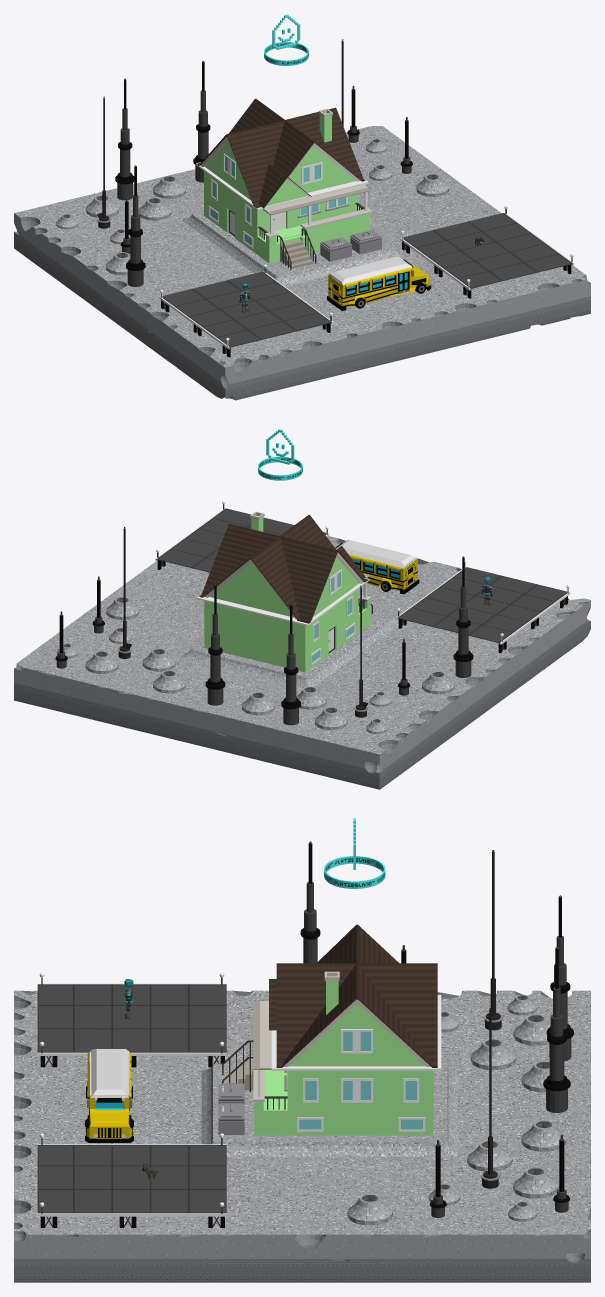
The picture shows the model from 3 angles, top to bottom: view 1: azimuth 30°, elevation 25°; view 2: azimuth 150°, elevation 25°; view 3: azimuth 270°, elevation 25°; orthographic projection. The views are drawn at different scales.
Parts seen in each view (by area): view 1: Cube.027, Cube.274, Cube.026, Cube.025, Cube.028, VEHICLES_SCHOOL_BUS, Cylinder.021, Cylinder.020, Cylinder.017, TYPE_PREMIUM, Cube.029, Cube.030 (+3 smaller); view 2: Cube.027, Cube.274, Cube.025, Cube.028, Cube.026, VEHICLES_SCHOOL_BUS, Cylinder.017, Cylinder.021, Cylinder.020, TYPE_PREMIUM, Cylinder.030, Cylinder.029 (+7 smaller); view 3: Cube.027, Cube.274, Cube.026, Cube.025, Cube.028, VEHICLES_SCHOOL_BUS, Cylinder.017, Cylinder.020, Cylinder.021, TYPE_PREMIUM, Cylinder.033, Cylinder.031 (+10 smaller).
Boxes of the visible parts, <box> form: Cube.027: <box>14,126,590,400</box>; Cube.274: <box>196,98,372,269</box>; Cube.026: <box>400,205,574,298</box>; Cube.025: <box>159,264,333,357</box>; Cube.028: <box>182,211,403,286</box>; VEHICLES_SCHOOL_BUS: <box>327,256,431,310</box>; Cylinder.021: <box>126,165,145,286</box>; Cylinder.020: <box>115,78,134,200</box>; Cylinder.017: <box>193,60,210,182</box>; TYPE_PREMIUM: <box>264,14,308,65</box>; Cube.029: <box>320,237,351,261</box>; Cube.030: <box>350,230,381,254</box>; Cube.027: <box>14,536,590,789</box>; Cube.274: <box>197,511,372,672</box>; Cube.025: <box>396,560,570,653</box>; Cube.028: <box>181,610,398,688</box>; Cube.026: <box>155,501,329,572</box>; VEHICLES_SCHOOL_BUS: <box>335,540,419,594</box>; Cylinder.017: <box>205,583,225,705</box>; Cylinder.021: <box>453,556,473,677</box>; Cylinder.020: <box>281,603,300,725</box>; TYPE_PREMIUM: <box>258,429,302,480</box>; Cylinder.030: <box>142,648,175,671</box>; Cylinder.029: <box>153,670,185,693</box>; Cube.027: <box>14,990,590,1282</box>; Cube.274: <box>222,924,441,1135</box>; Cube.026: <box>37,1133,226,1227</box>; Cube.025: <box>37,973,226,1067</box>; Cube.028: <box>201,1063,457,1156</box>; VEHICLES_SCHOOL_BUS: <box>85,1049,133,1142</box>; Cylinder.017: <box>543,946,570,1112</box>; Cylinder.020: <box>546,895,573,1061</box>; Cylinder.021: <box>300,841,320,963</box>; TYPE_PREMIUM: <box>324,818,385,888</box>; Cylinder.033: <box>347,1194,392,1225</box>; Cylinder.031: <box>513,1167,558,1198</box>.
Size of the model in its own units: 4000 by 2707 by 4000.
42 materials, 5 textured.
